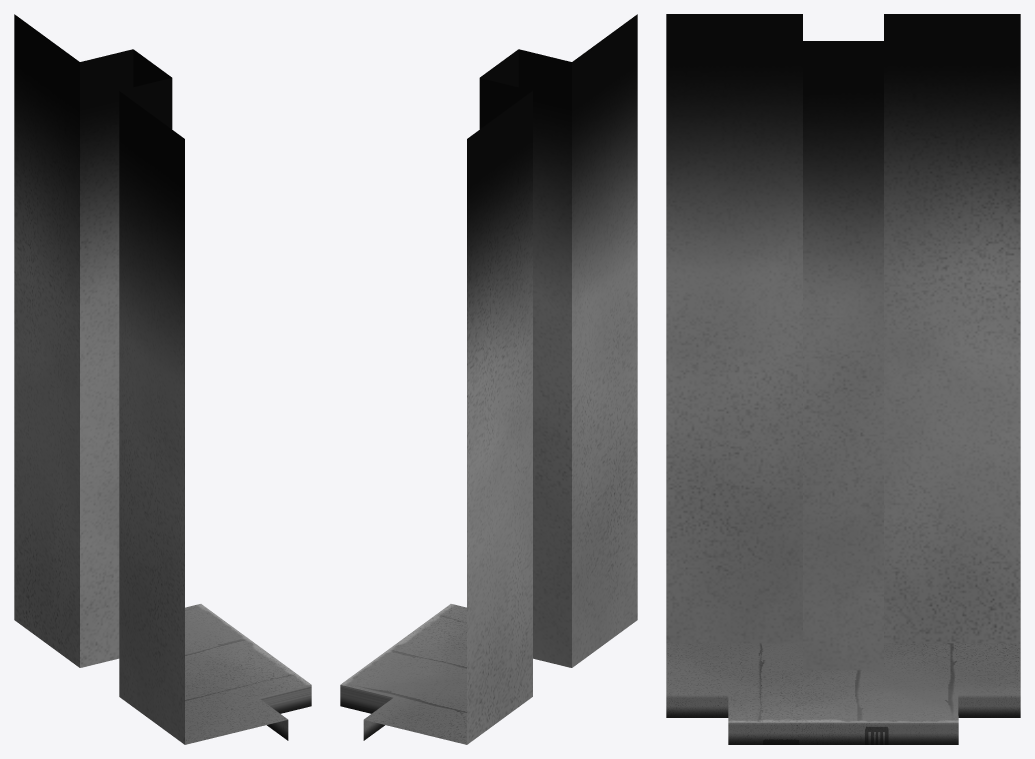
The model's file is StorefrontFiller.FBX.
3 views of the same model, side by side, from view 1: azimuth 30°, elevation 25°; view 2: azimuth 150°, elevation 25°; view 3: azimuth 270°, elevation 25° (orthographic). The views are drawn at different scales.
Parts seen in each view (by area): view 1: Storefront_Filler; view 2: Storefront_Filler; view 3: Storefront_Filler.
Part boxes in pixels (x1,y1,x2,y2): Storefront_Filler: (14,14,311,744); Storefront_Filler: (340,14,637,744); Storefront_Filler: (666,14,1020,744).
Size of the model in its own units: 0.7953 by 1.5 by 3.04.
1 material, 1 textured.
